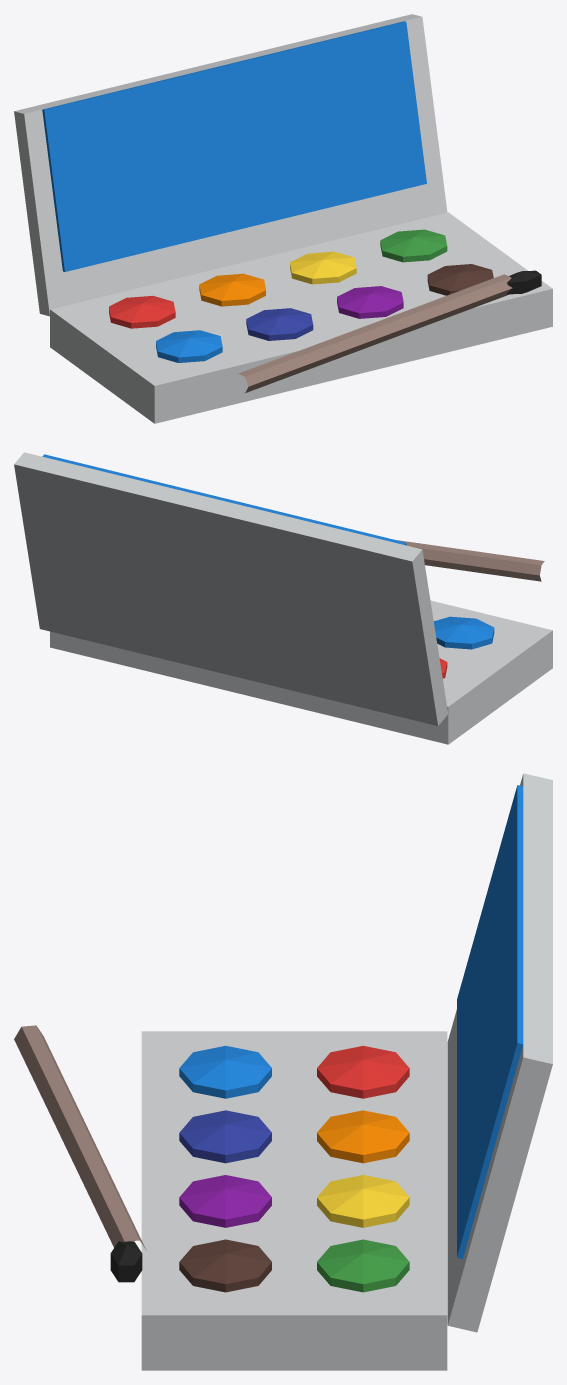
Rendered from vattenfarg.glb.
3 views of the same model, one above another, from view 1: azimuth 30°, elevation 25°; view 2: azimuth 150°, elevation 25°; view 3: azimuth 270°, elevation 25° (orthographic). The views are drawn at different scales.
Parts seen in each view (by area): view 1: vattenfarg; view 2: vattenfarg; view 3: vattenfarg.
Boxes of the visible parts, x1=… form: vattenfarg: x1=14, y1=14, x2=552, y2=423; vattenfarg: x1=14, y1=452, x2=552, y2=744; vattenfarg: x1=14, y1=773, x2=552, y2=1370.
Size of the model in its own units: 0.44 by 0.2272 by 0.3528.
